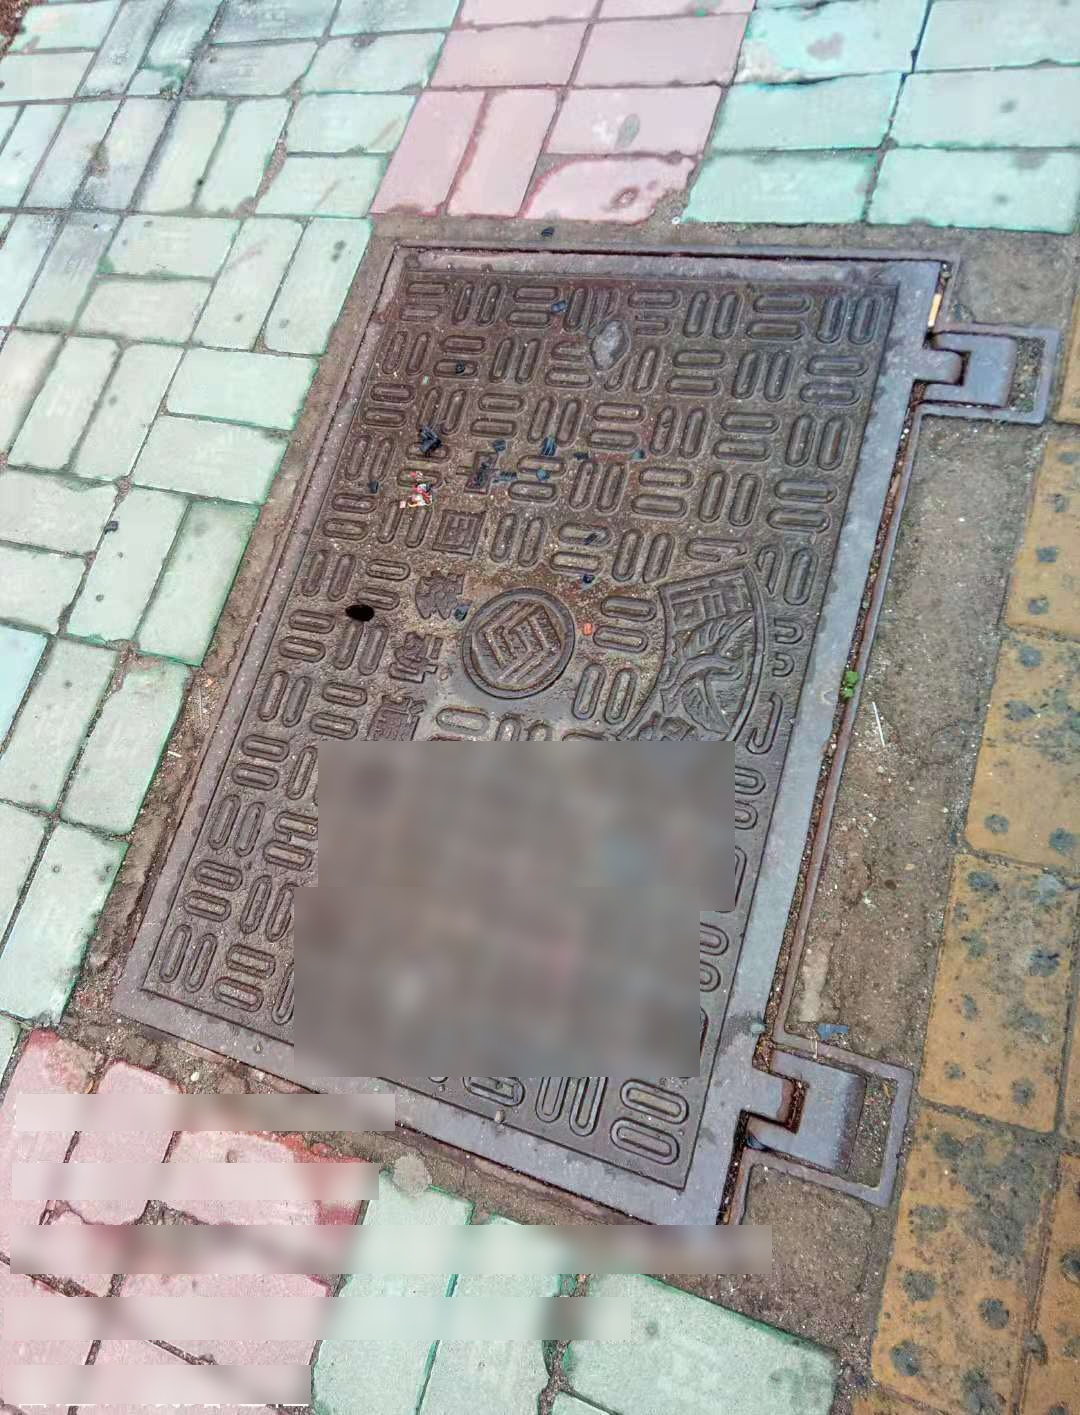good: (106, 237, 1060, 1261)
